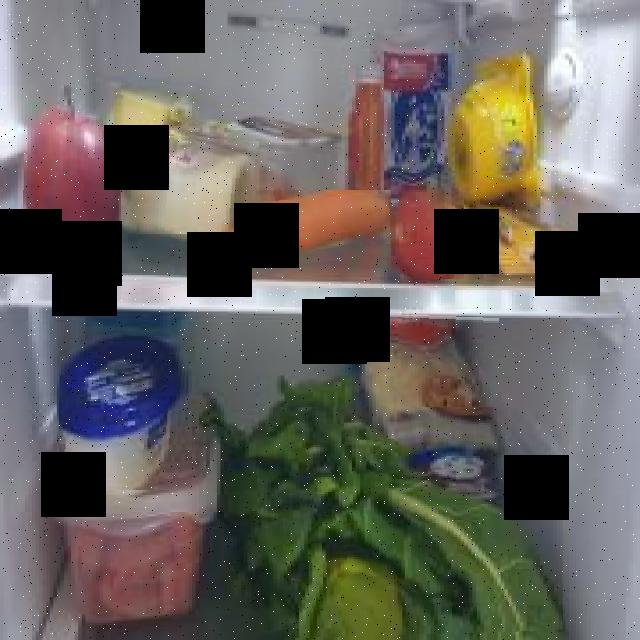apple: (23, 88, 123, 262)
carrot: (210, 190, 391, 269)
cheese: (59, 332, 190, 490)
grated_cheese: (361, 313, 499, 466)
mayonaise: (121, 133, 259, 234)
pak_choi: (226, 407, 564, 640)
tomato: (393, 192, 464, 279)
